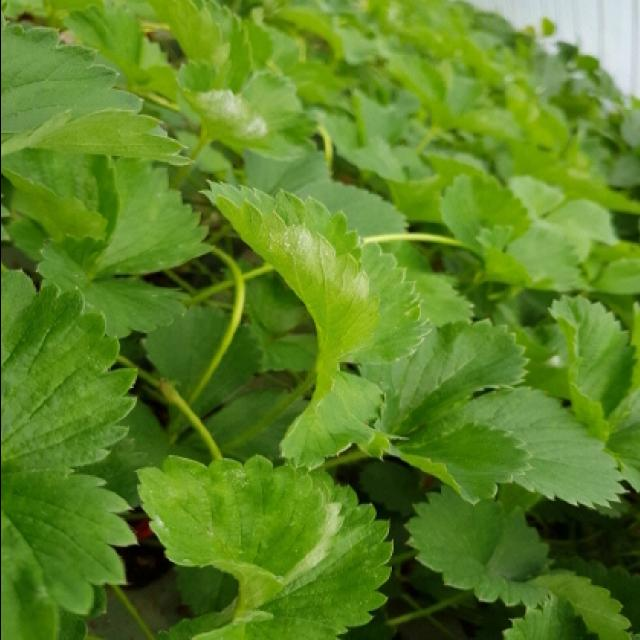Powdery Mildew Leaf: (198, 177, 430, 472), (133, 454, 393, 640), (175, 60, 308, 162)
